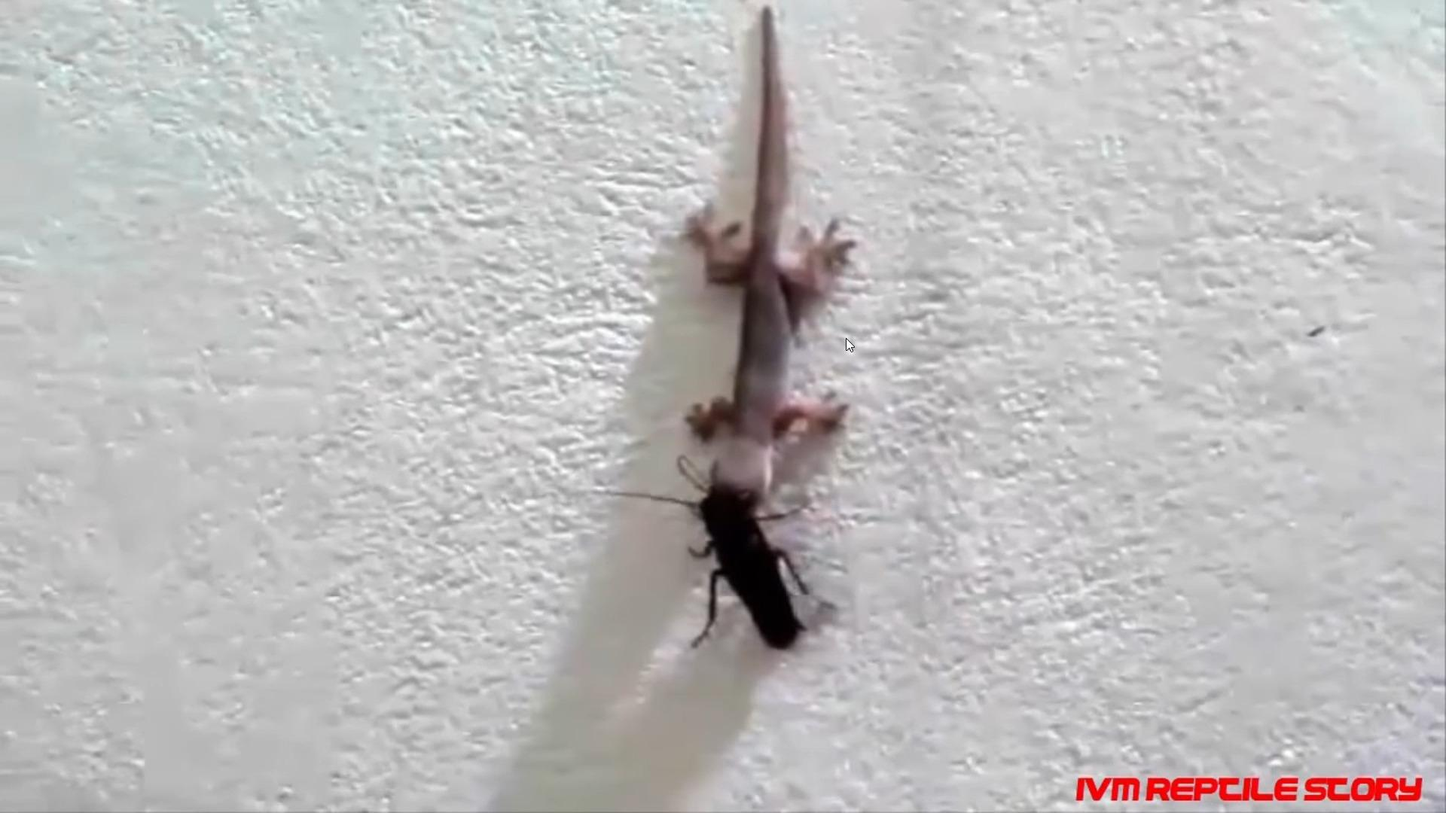cockroach: (689, 490, 820, 654)
lizard: (684, 79, 862, 511)
